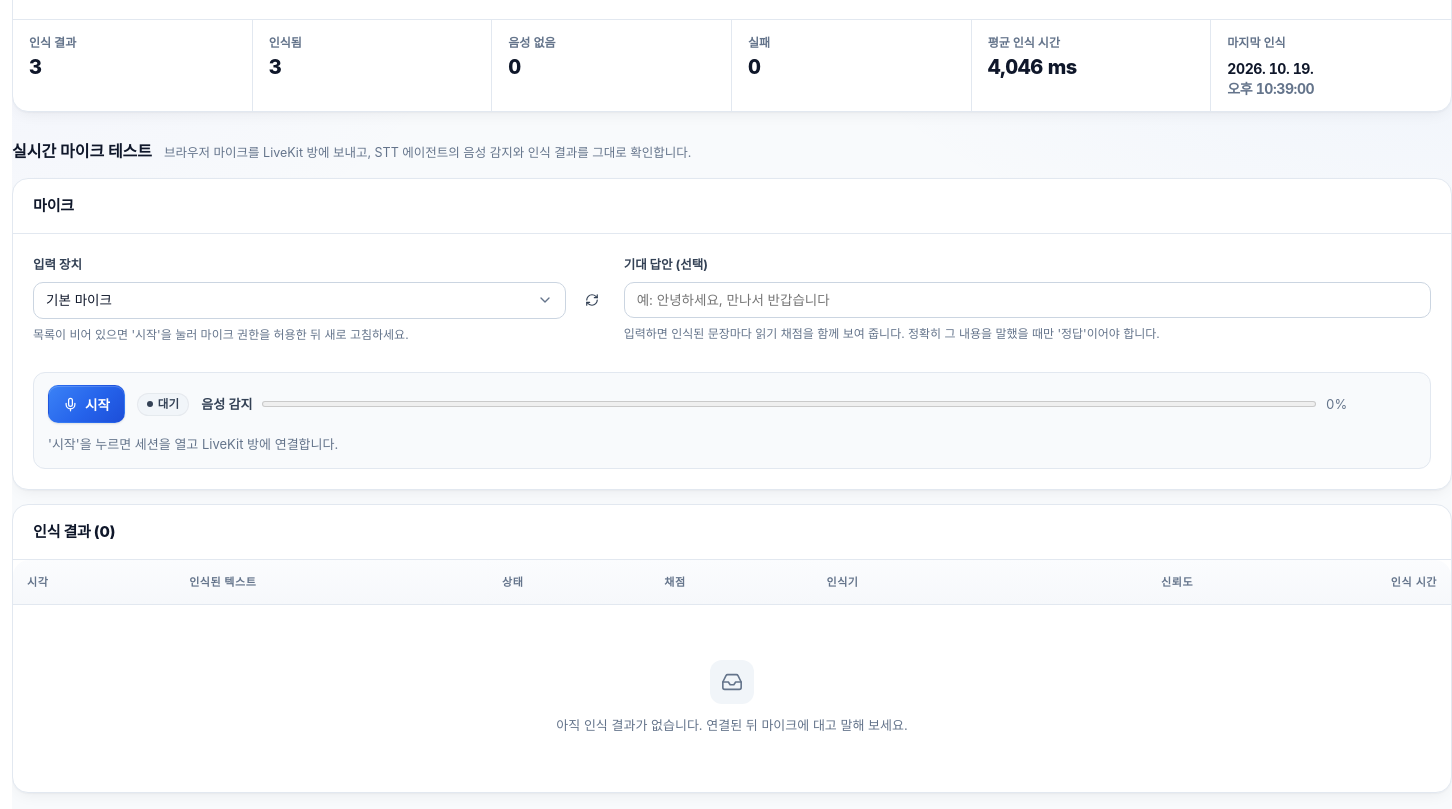
Test: 실시간 마이크 테스트 › logs an undelivered or failed transcript as an error
(page scrolled)
Click the button "시작" at (86, 404), box left=48, top=386, right=125, bottom=424
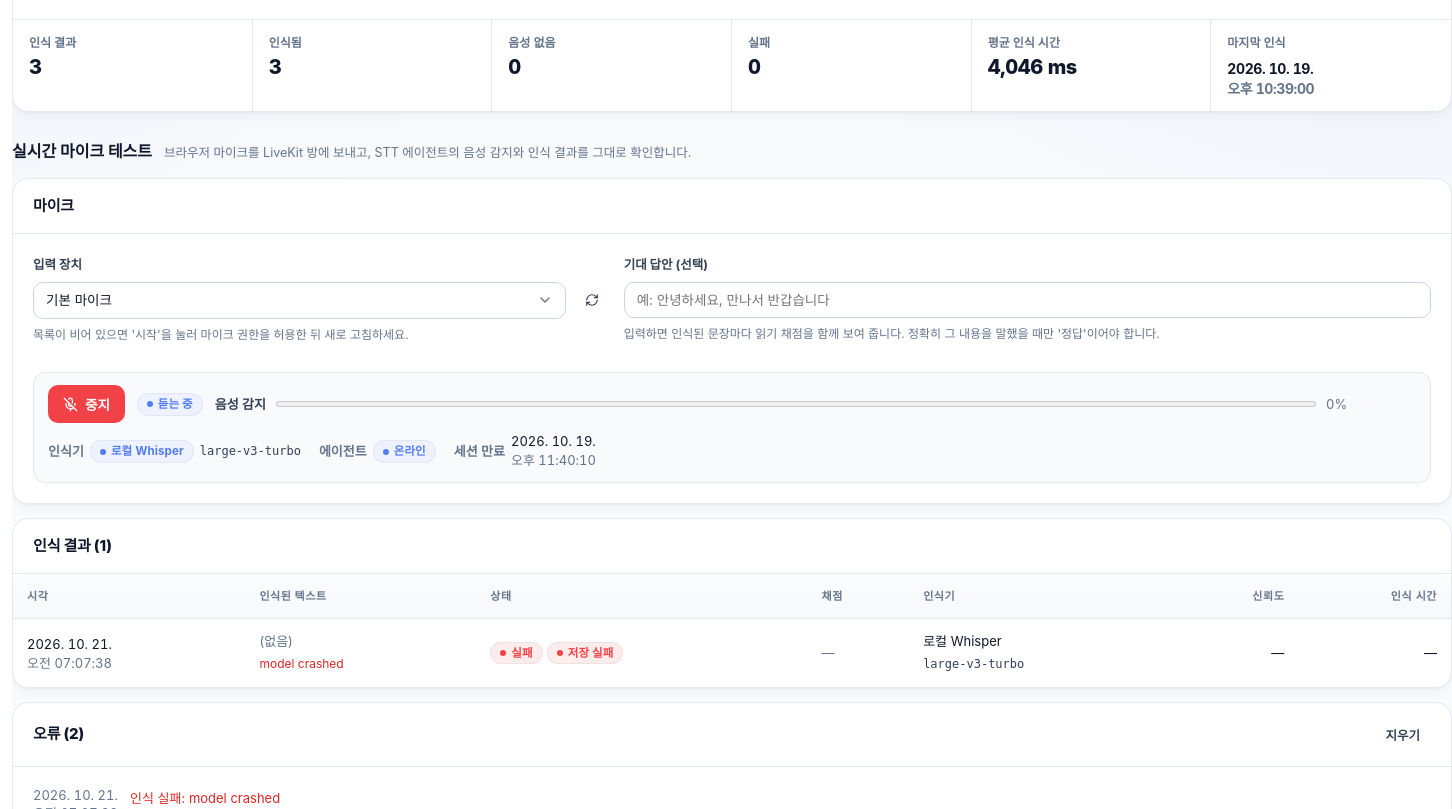
expect the text "듣는 중" is shown: met, box left=137, top=393, right=203, bottom=416
expect the text "저장 실패" is shown: met, box left=547, top=642, right=623, bottom=664
expect the text "오류 (2)" is shown: met, box left=33, top=723, right=84, bottom=745
